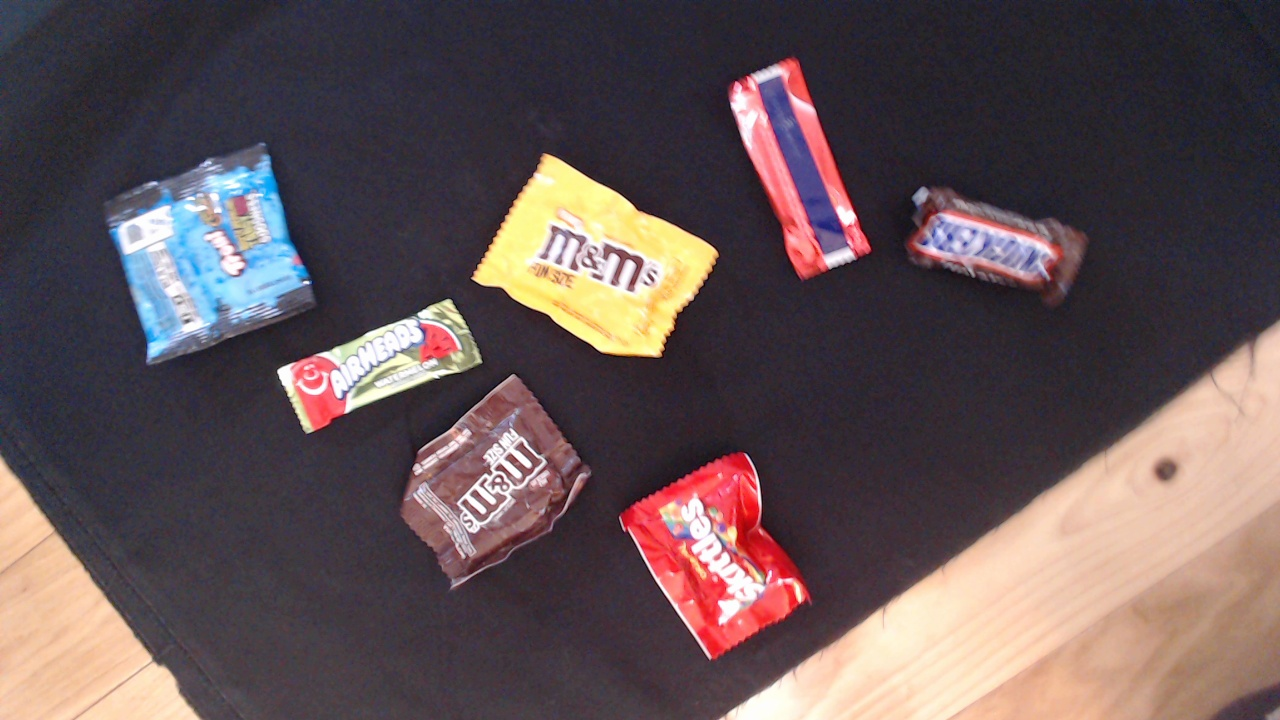MMs_peanut: (397, 371, 600, 585)
MMs_regular: (450, 136, 724, 380)
airheads: (235, 309, 506, 435)
gummy_worms: (78, 158, 330, 341)
skittles: (604, 447, 847, 639), (708, 44, 902, 270)
snickers: (908, 159, 1091, 310)
